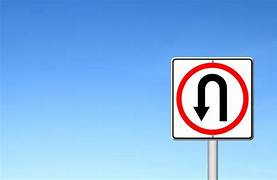back: (169, 56, 255, 140)
